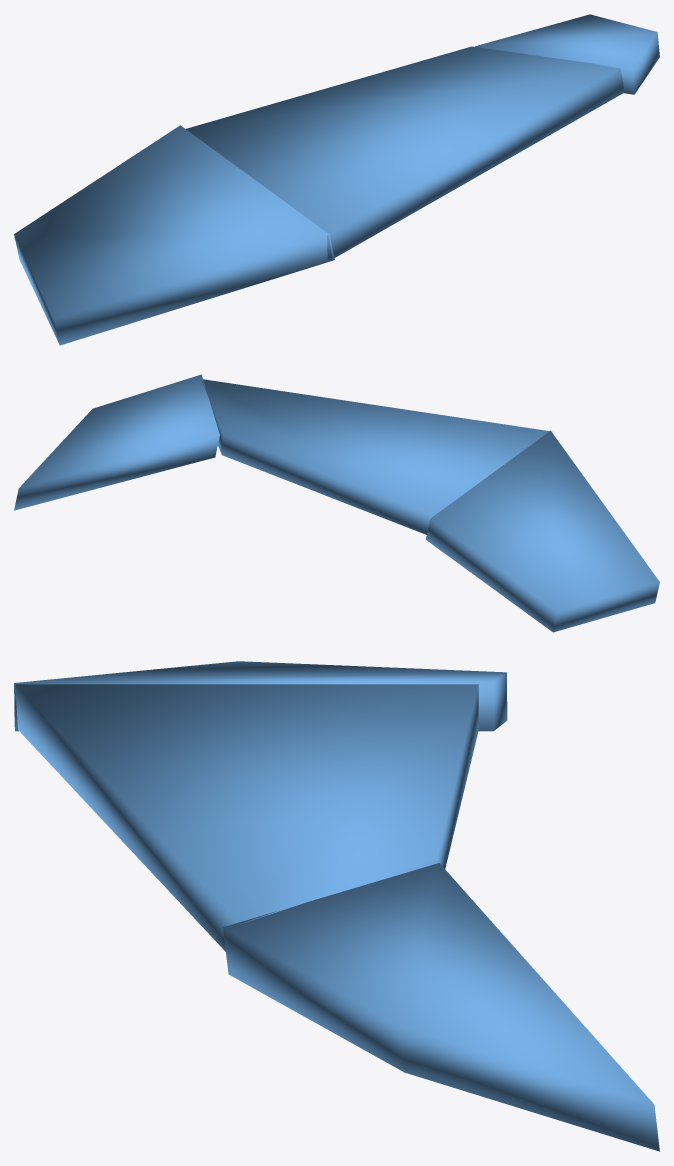
Rendered from leftWing.glb.
3 renders of one model, top to bottom at view 1: azimuth 30°, elevation 25°; view 2: azimuth 150°, elevation 25°; view 3: azimuth 270°, elevation 25°, orthographic. The views are drawn at different scales.
Visible parts, largest first — view 1: leftWingTip; view 2: leftWingTip; view 3: leftWingTip.
Part boxes in pixels (x1,y1,x2,y2): leftWingTip: (14,14,659,345); leftWingTip: (14,374,659,632); leftWingTip: (14,661,659,1151).
Size of the model in its own units: 3.29 by 0.6631 by 1.71.
